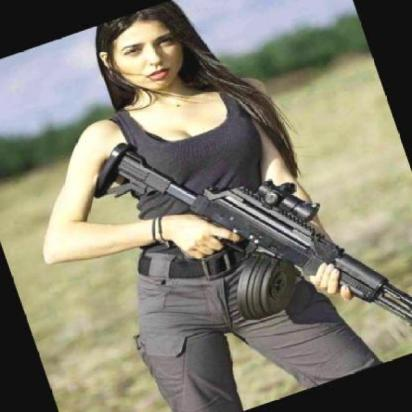Gun: (77, 49, 412, 412)
